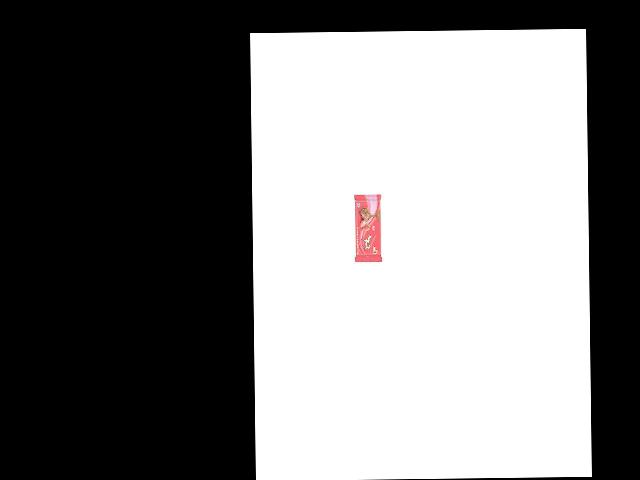chocolate: (349, 193, 381, 267)
